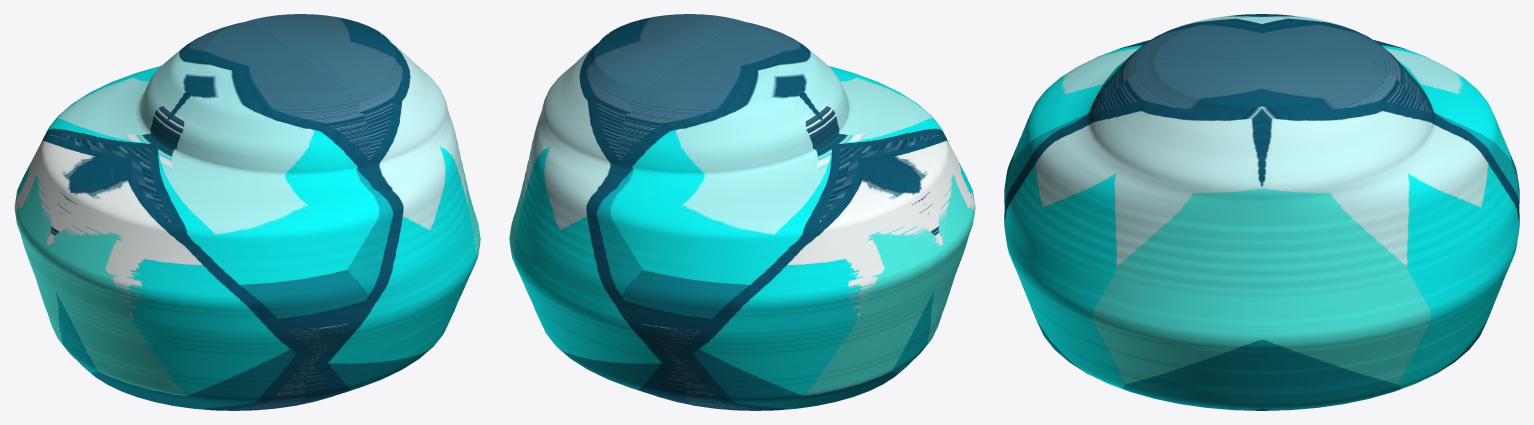
File: cyan_crystal_cluster.glb
3 views of the same model, side by side, from view 1: azimuth 30°, elevation 25°; view 2: azimuth 150°, elevation 25°; view 3: azimuth 270°, elevation 25° (orthographic). The views are drawn at different scales.
Visible parts, largest first — view 1: cyan_crystal_cluster; view 2: cyan_crystal_cluster; view 3: cyan_crystal_cluster.
Boxes of the visible parts, left/top/right/bottom form: cyan_crystal_cluster: left=14, top=14, right=480, bottom=410; cyan_crystal_cluster: left=509, top=14, right=975, bottom=410; cyan_crystal_cluster: left=1004, top=14, right=1519, bottom=410.
Bounding box in the file's own units: 0.9935 × 0.6795 × 0.9727.
Materials: 1 (1 with a texture image).
